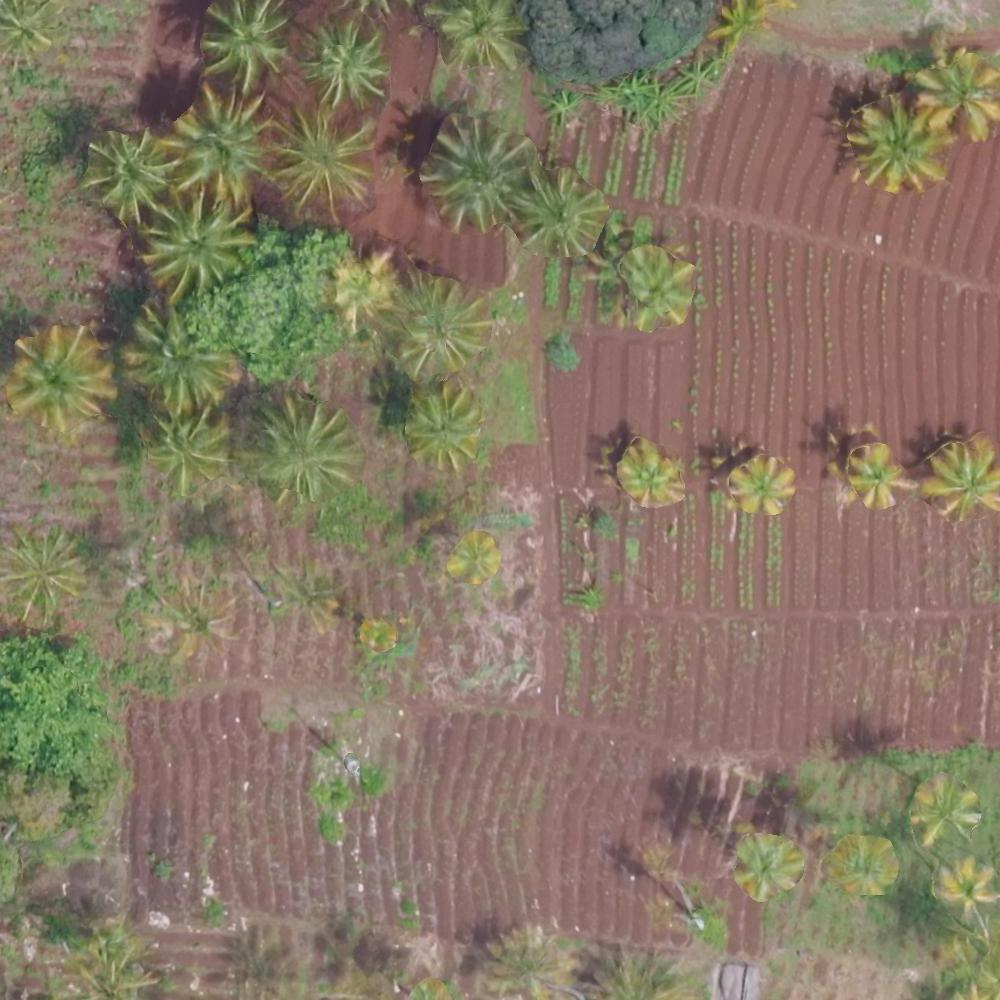Palm: (245, 392, 356, 502), (123, 302, 232, 404), (273, 109, 377, 215), (143, 193, 247, 298), (166, 95, 265, 196), (388, 272, 486, 373), (427, 121, 529, 218), (12, 325, 110, 423), (855, 98, 948, 194), (296, 16, 389, 109), (1, 528, 86, 621), (913, 46, 996, 141), (197, 2, 286, 89), (510, 162, 593, 254), (431, 1, 525, 80), (80, 131, 165, 215), (147, 411, 236, 486), (399, 390, 482, 467), (618, 247, 690, 325), (925, 440, 995, 517), (614, 444, 691, 505), (731, 832, 799, 899), (840, 442, 908, 508), (934, 857, 1000, 919), (914, 777, 975, 843), (832, 832, 896, 893), (730, 455, 790, 512)
